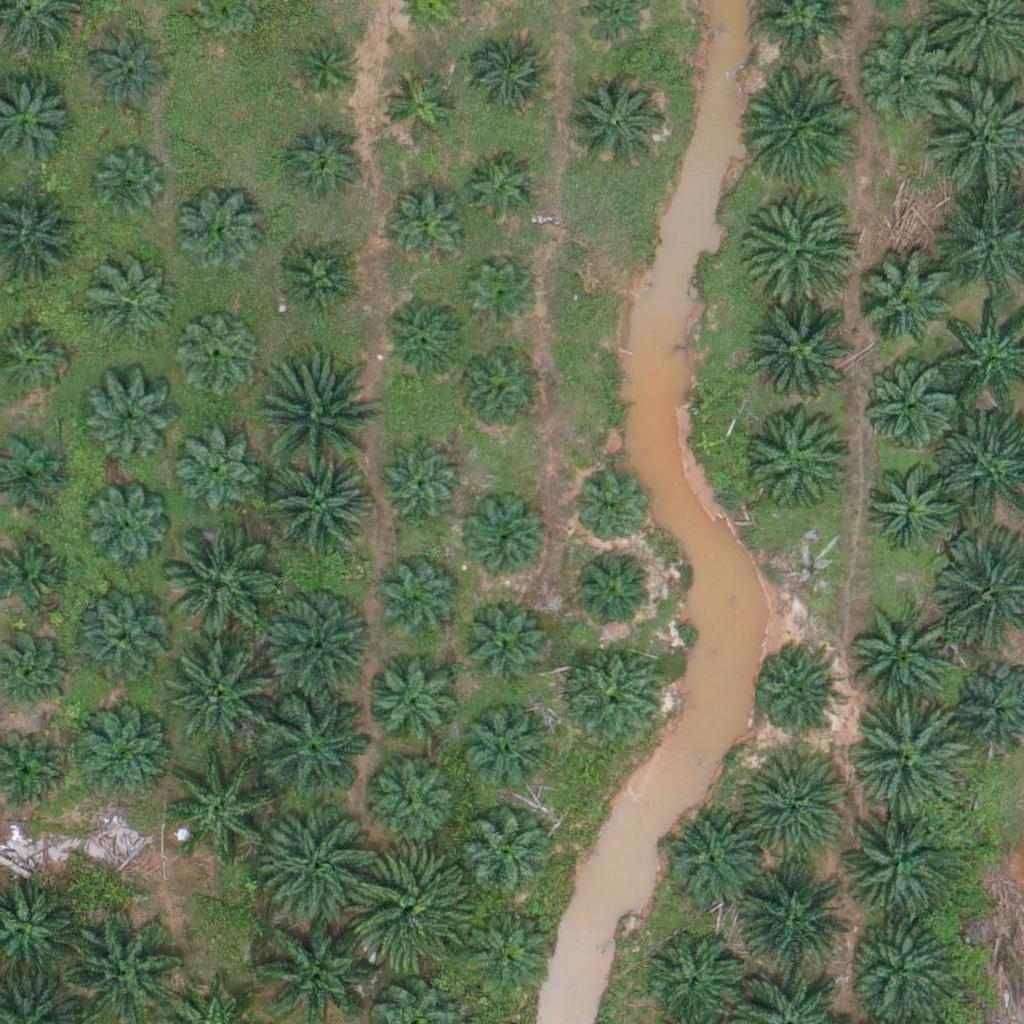Kelapa_Sawit: (849, 908, 962, 1022), (840, 813, 953, 927), (738, 749, 851, 863), (744, 67, 857, 181), (255, 586, 368, 700), (740, 191, 853, 304), (354, 850, 467, 963), (262, 363, 375, 476), (259, 684, 372, 797), (737, 857, 849, 971), (747, 300, 859, 414), (266, 811, 378, 925), (851, 590, 963, 703), (855, 704, 967, 817), (260, 456, 372, 569), (167, 750, 279, 863), (167, 641, 279, 754), (163, 529, 275, 642), (857, 357, 957, 458), (861, 453, 961, 554), (750, 409, 850, 510), (565, 73, 665, 174), (563, 642, 663, 743), (455, 703, 555, 804), (72, 596, 172, 697), (663, 810, 763, 911), (854, 250, 954, 350), (365, 749, 465, 849), (369, 653, 469, 753), (71, 702, 171, 802), (857, 27, 957, 127), (382, 179, 470, 268), (280, 123, 368, 211), (268, 239, 356, 327), (452, 346, 540, 434), (466, 907, 554, 995), (375, 556, 463, 644), (84, 382, 172, 470), (84, 483, 172, 571), (174, 315, 262, 403), (83, 28, 171, 116), (468, 32, 556, 120), (751, 643, 838, 731), (381, 294, 468, 382), (374, 442, 461, 530), (463, 499, 550, 587), (570, 545, 657, 633), (464, 815, 551, 903), (459, 594, 546, 682), (176, 186, 263, 274), (173, 428, 260, 516), (87, 259, 174, 347), (91, 149, 166, 225), (464, 259, 539, 335), (573, 472, 648, 548), (287, 32, 362, 108), (379, 70, 454, 145), (467, 154, 542, 229)
